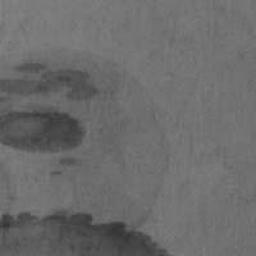Oil spot: (0, 46, 179, 256)
